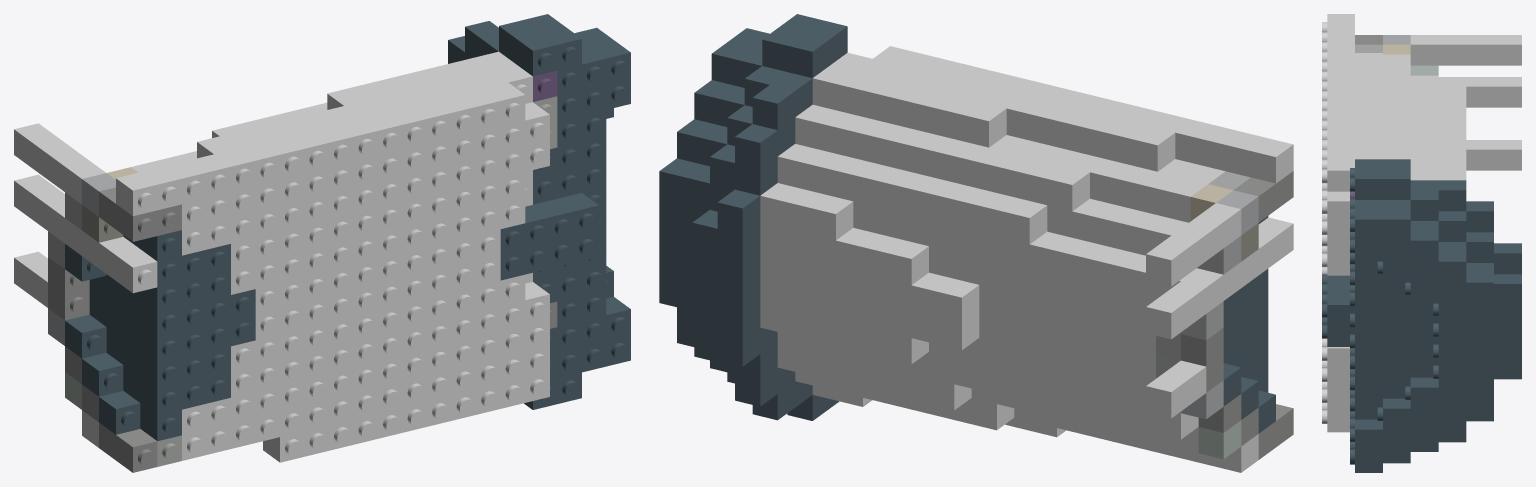
Rendered from full.glb.
3 renders of one model, left to right at view 1: azimuth 30°, elevation 25°; view 2: azimuth 150°, elevation 25°; view 3: azimuth 270°, elevation 25°, orthographic. The views are drawn at different scales.
Parts seen in each view (by area): view 1: world; view 2: world; view 3: world.
Part boxes in pixels (<box>): world: <box>14,14,630,472</box>; world: <box>659,14,1293,472</box>; world: <box>1322,14,1521,472</box>.
Bounding box in the file's own units: 168 × 112 × 69.
